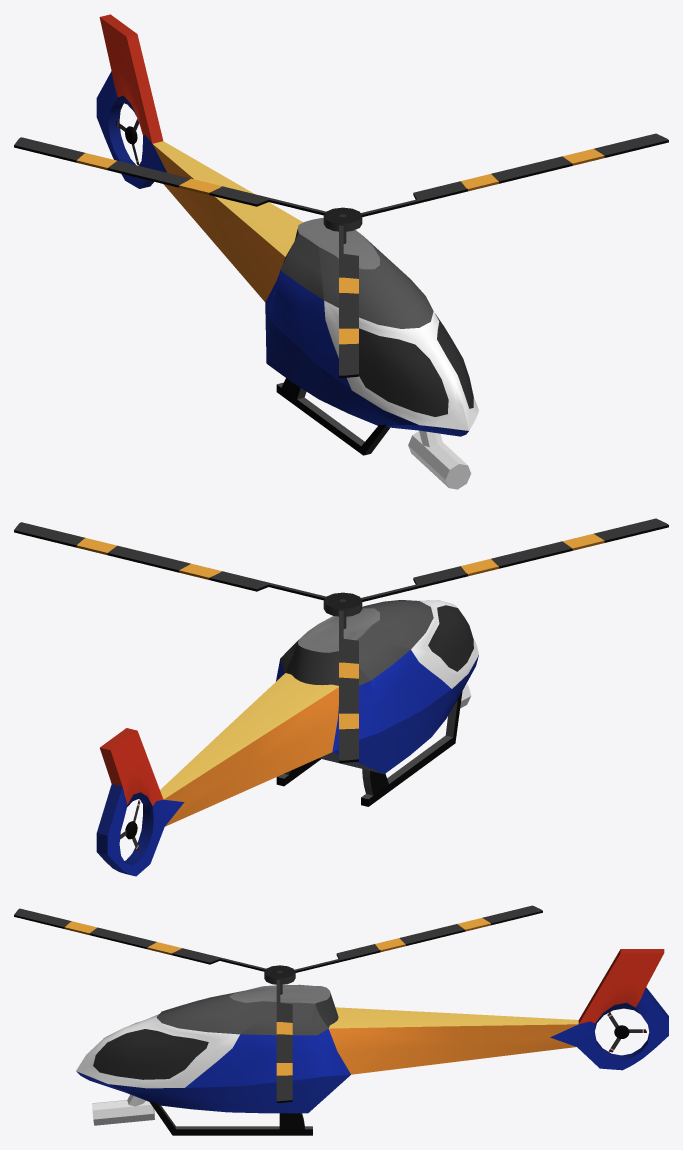
Rendered from NormalHeli2.fbx.
The picture shows the model from 3 angles, top to bottom: view 1: azimuth 30°, elevation 25°; view 2: azimuth 150°, elevation 25°; view 3: azimuth 270°, elevation 25°; orthographic projection. The views are drawn at different scales.
Visible parts, largest first — view 1: Body, Rotor, Cylinder.001; view 2: Body, Rotor; view 3: Body, Rotor, Cylinder.001.
Part boxes in pixels (left/top/right/bottom): Body: left=96, top=14, right=478, bottom=455; Rotor: left=14, top=133, right=668, bottom=377; Cylinder.001: left=408, top=431, right=471, bottom=489; Body: left=96, top=600, right=478, bottom=876; Rotor: left=14, top=518, right=668, bottom=762; Body: left=76, top=949, right=668, bottom=1135; Rotor: left=14, top=905, right=542, bottom=1102; Cylinder.001: left=92, top=1100, right=154, bottom=1125.
Size of the model in its own units: 823 by 342 by 1164.
Materials: 1 (1 with a texture image).
